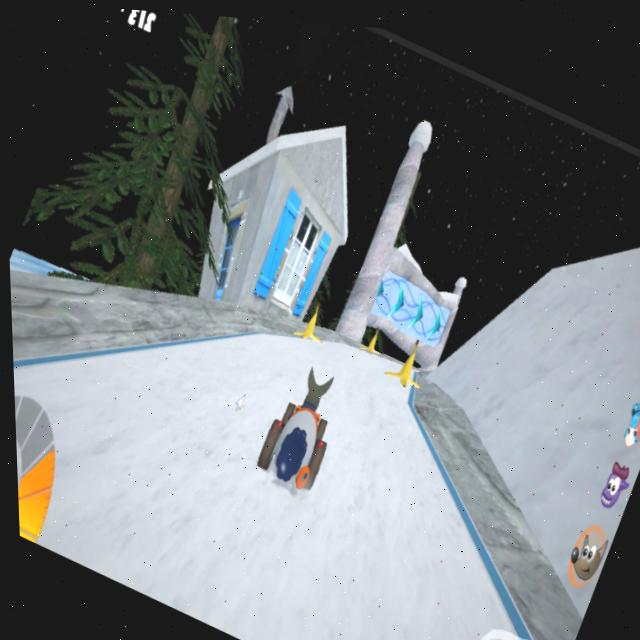obstacle: (378, 328, 431, 394), (281, 296, 329, 356), (356, 311, 389, 354)
player_kart: (242, 341, 357, 496)
